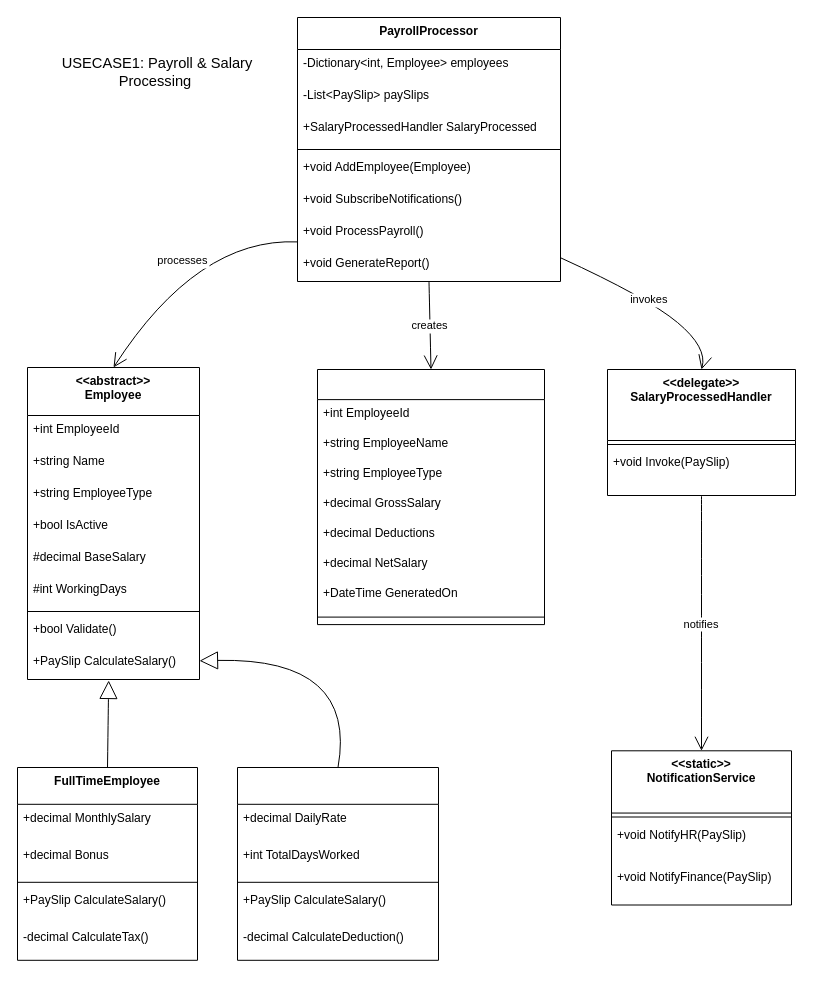
Some shapes in this 813 by 981 pixel diagram are drawn without their labels. Here are the shapes that lost their labels. From the top down, the box of each, then its label:
(316, 368, 544, 625): PaySlip
(236, 766, 438, 960): ContractEmployee
